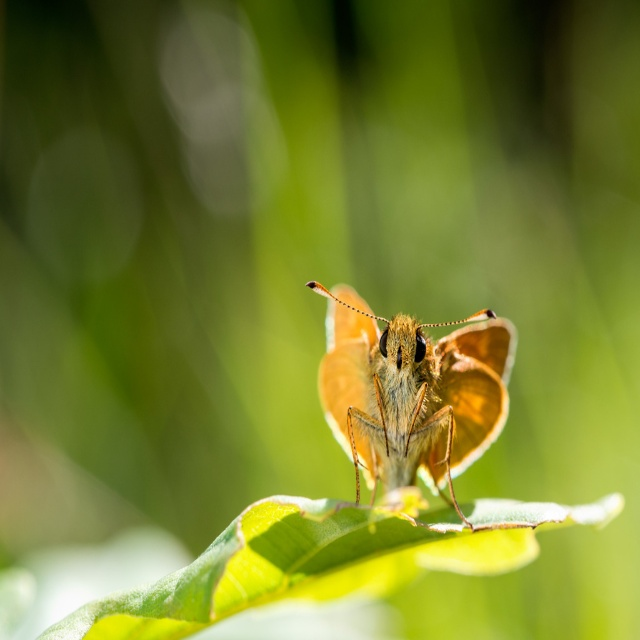Butterfly: (302, 278, 518, 531)
